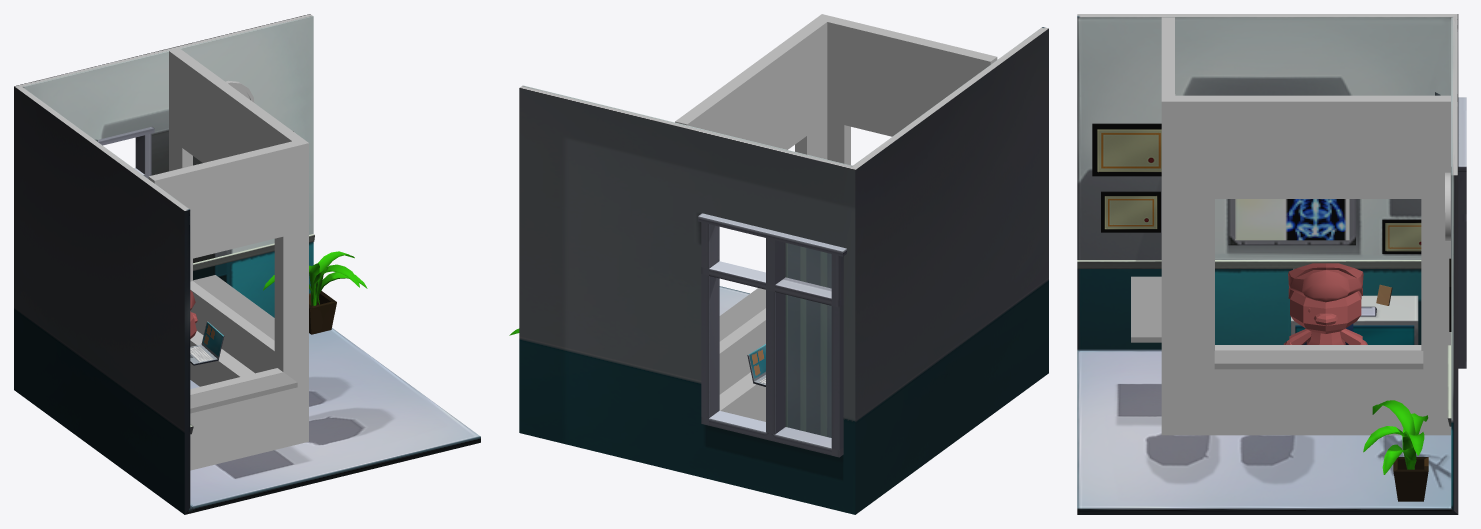
Rendered from Clinic_recep_updated.fbx.
The picture shows the model from 3 angles, left to right: view 1: azimuth 30°, elevation 25°; view 2: azimuth 150°, elevation 25°; view 3: azimuth 270°, elevation 25°; orthographic projection. The views are drawn at different scales.
Parts seen in each view (by area): view 1: polySurface324, polySurface337, pCube2, pCube1, polySurface329, polySurface334, polySurface351, polySurface326; view 2: polySurface324, polySurface337, polySurface329, polySurface319, pCube1; view 3: polySurface324, polySurface337, polySurface327, group_pasted__hand2_pasted__pCylinder9, pCube1, polySurface322, polySurface328, polySurface329, polySurface323, polySurface325, pCube2, polySurface321 (+3 smaller).
Part boxes in pixels (box(x1,y1,x2,y2)): polySurface324: box(14, 14, 480, 514); polySurface337: box(148, 48, 308, 470); pCube2: box(190, 372, 297, 413); pCube1: box(193, 275, 274, 340); polySurface329: box(98, 126, 154, 178); polySurface334: box(190, 321, 224, 365); polySurface351: box(309, 291, 336, 334); polySurface326: box(193, 234, 314, 270); polySurface324: box(519, 27, 1048, 514); polySurface337: box(675, 14, 997, 421); polySurface329: box(698, 213, 846, 457); polySurface319: box(785, 243, 831, 437); pCube1: box(719, 288, 765, 341); polySurface324: box(1077, 14, 1458, 514); polySurface337: box(1161, 17, 1450, 435); polySurface327: box(1228, 199, 1355, 245); group_pasted__hand2_pasted__pCylinder9: box(1283, 263, 1367, 344); pCube1: box(1214, 351, 1423, 369); polySurface322: box(1092, 123, 1161, 176); polySurface328: box(1291, 295, 1418, 344); polySurface329: box(1451, 97, 1466, 368); polySurface323: box(1101, 191, 1160, 232); polySurface325: box(1077, 260, 1421, 269); pCube2: box(1131, 276, 1161, 342); polySurface321: box(1382, 219, 1421, 253).
Size of the model in its own units: 24.81 by 22.36 by 23.18.
